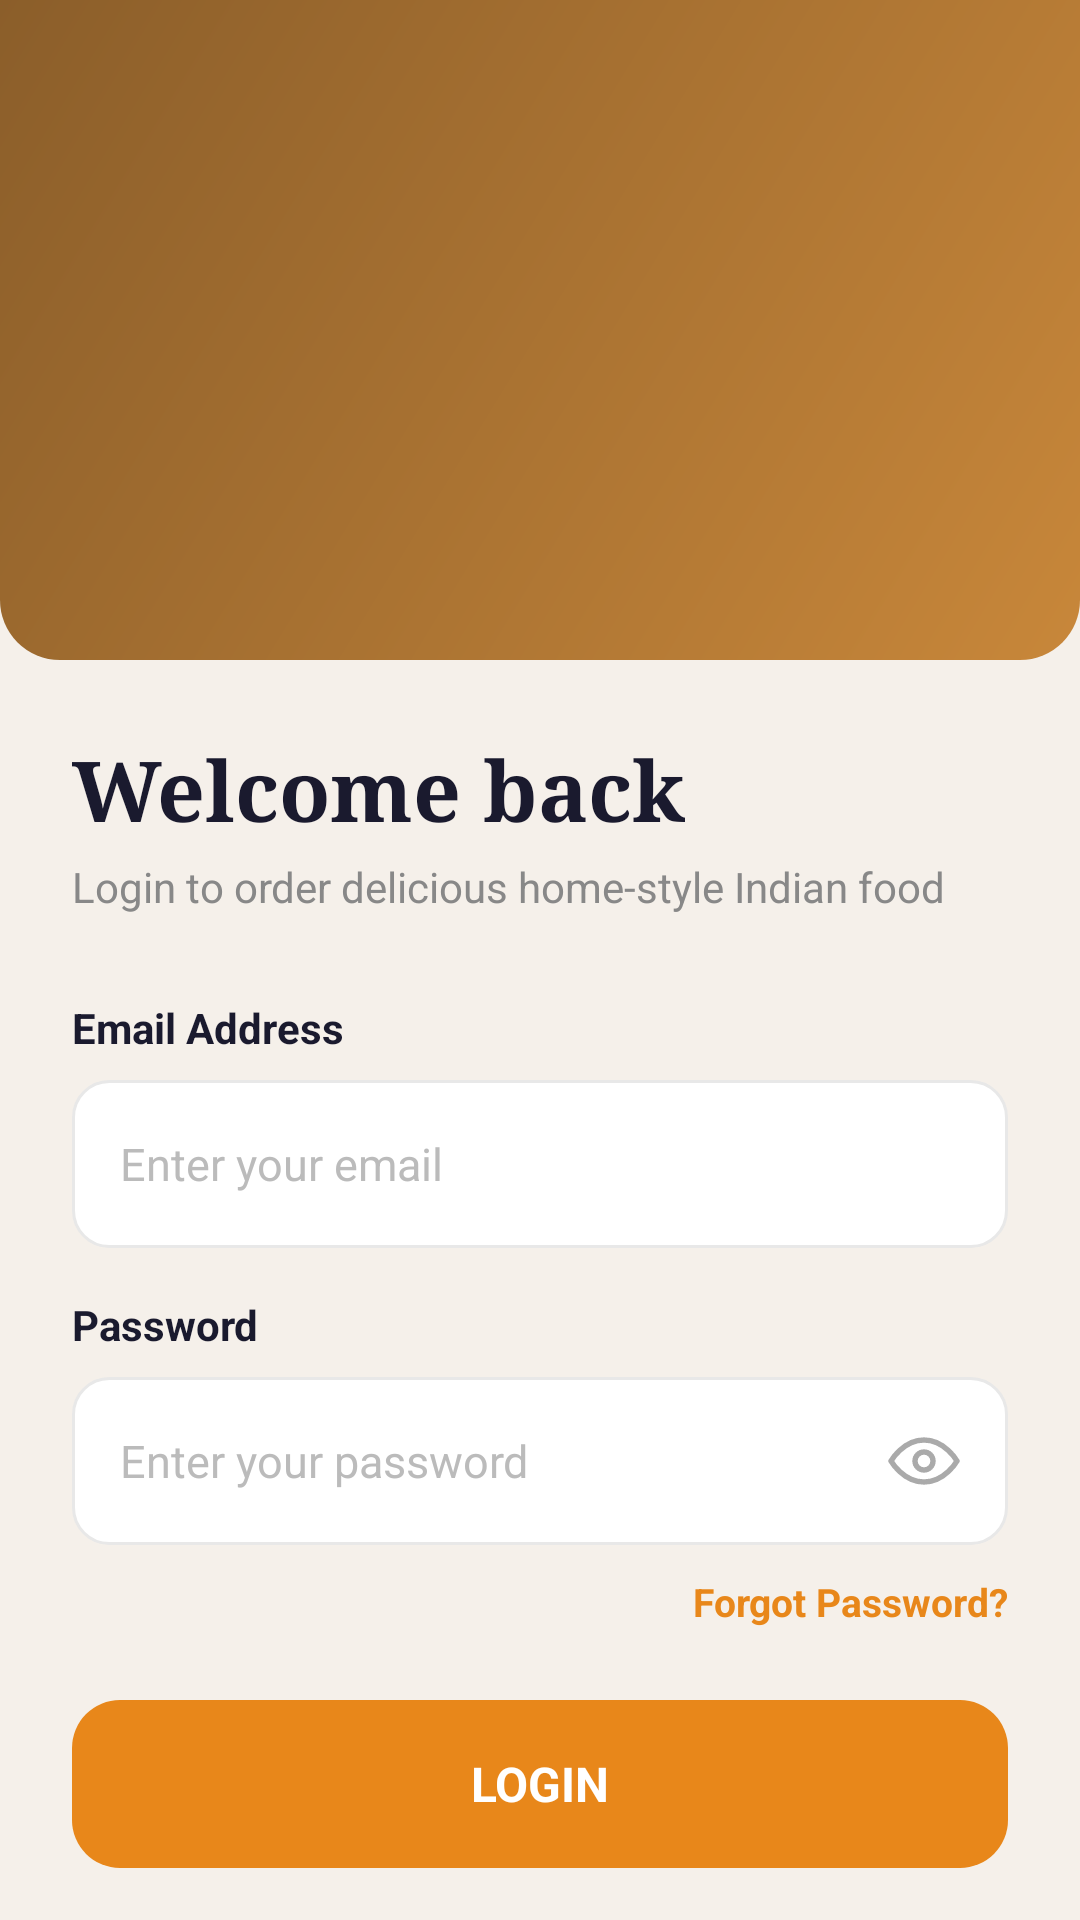

Named icons in this screenshot (1080*1920) and their centers, (x=x, y=y):
Toggle password: (x=924, y=1461)
